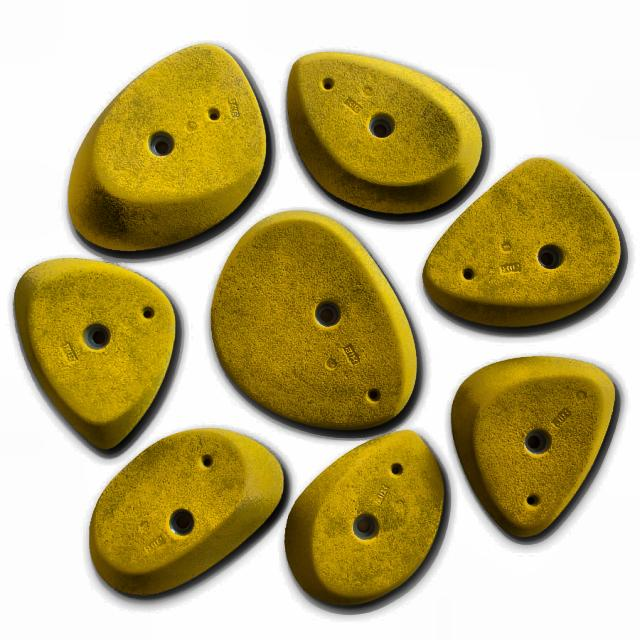Hold: (210, 216, 420, 422), (74, 47, 261, 258), (420, 152, 619, 329), (452, 356, 623, 546), (13, 254, 181, 447), (86, 428, 286, 590), (284, 52, 484, 212), (289, 430, 445, 609)
